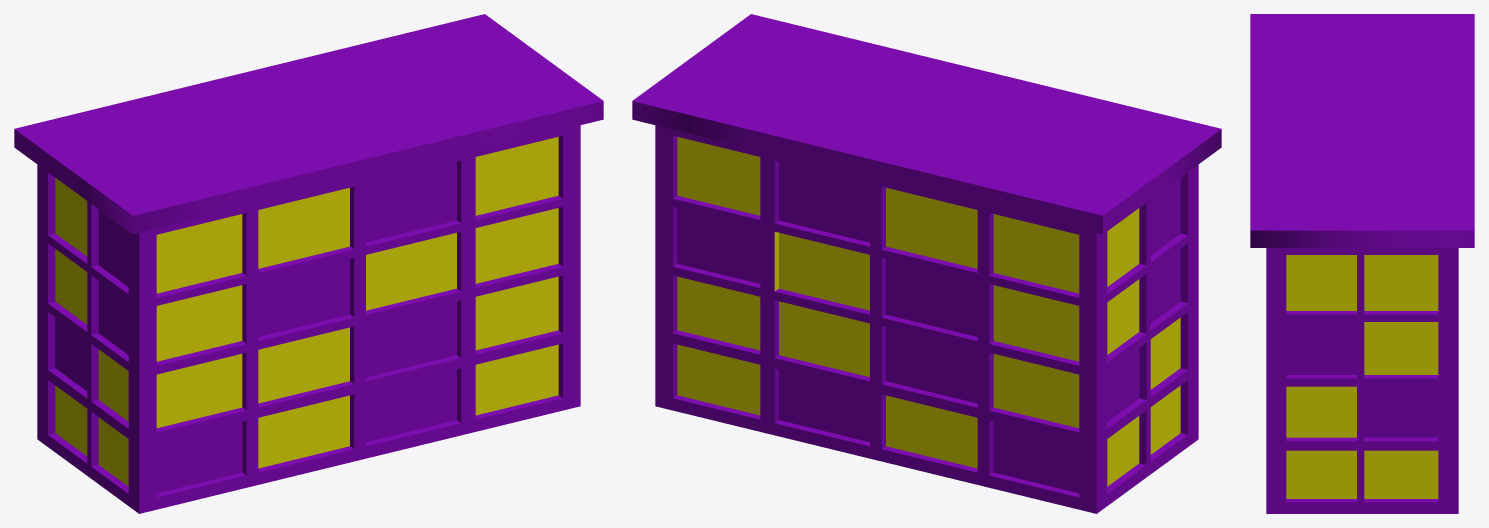
The model's file is Building_Large_Side_002.fbx.
3 renders of one model, left to right at view 1: azimuth 30°, elevation 25°; view 2: azimuth 150°, elevation 25°; view 3: azimuth 270°, elevation 25°, orthographic. The views are drawn at different scales.
Visible parts, largest first — view 1: Building_Large_Side_002; view 2: Building_Large_Side_002; view 3: Building_Large_Side_002.
Part boxes in pixels (x1=…): Building_Large_Side_002: x1=14, y1=14, x2=603, y2=513; Building_Large_Side_002: x1=632, y1=14, x2=1221, y2=513; Building_Large_Side_002: x1=1250, y1=14, x2=1474, y2=513.
Bounding box in the file's own units: 6400 × 4000 × 2800.
